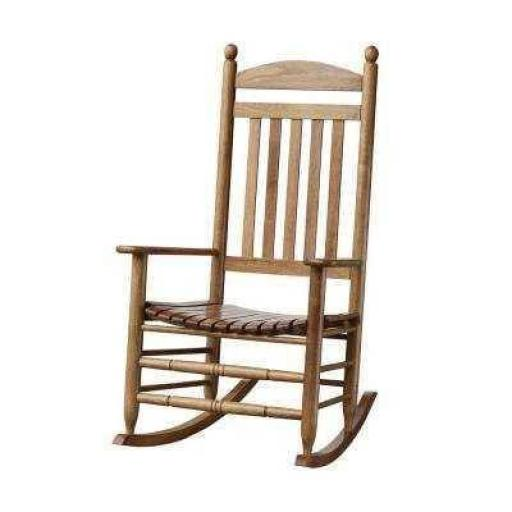chair: (111, 34, 381, 474)
